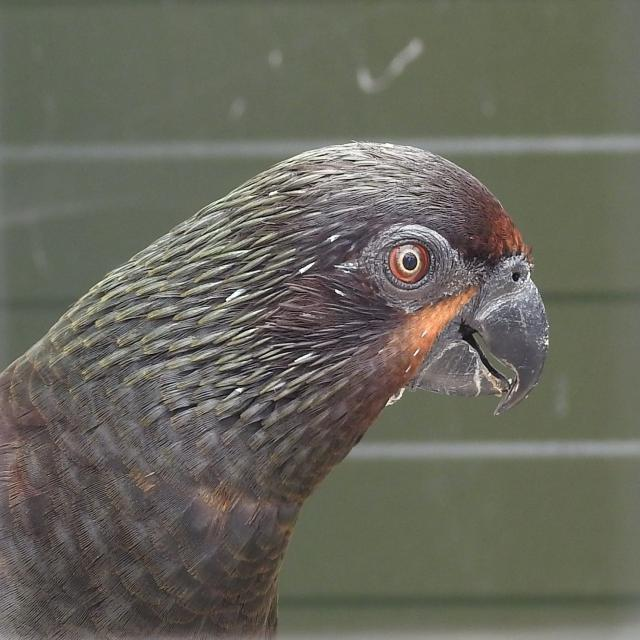Nuri Hitam: (0, 112, 583, 640)
